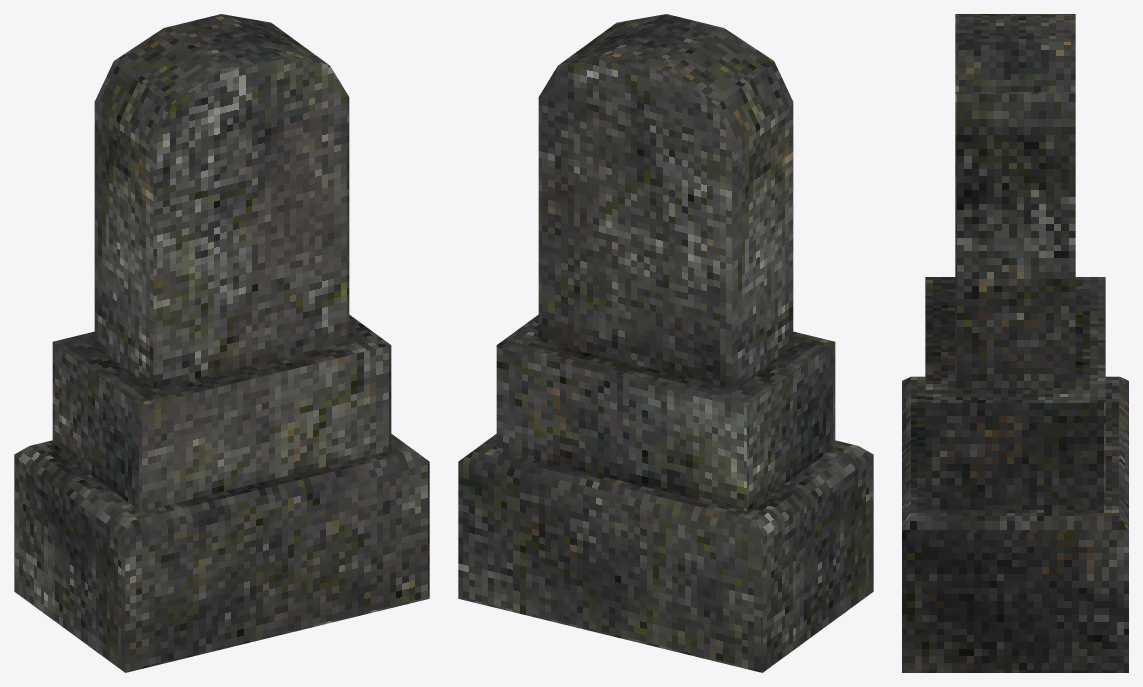
The model's file is Gravestone_2.gltf.
3 views of the same model, side by side, from view 1: azimuth 30°, elevation 25°; view 2: azimuth 150°, elevation 25°; view 3: azimuth 270°, elevation 25° (orthographic). The views are drawn at different scales.
Parts seen in each view (by area): view 1: Gravestone_2; view 2: Gravestone_2; view 3: Gravestone_2.
Boxes of the visible parts, x1,y1,x2,y2 form: Gravestone_2: (14, 14, 429, 672); Gravestone_2: (458, 14, 873, 672); Gravestone_2: (902, 14, 1128, 672).
Bounding box in the file's own units: 2.32 × 4.02 × 1.46.
Materials: 1 (1 with a texture image).
